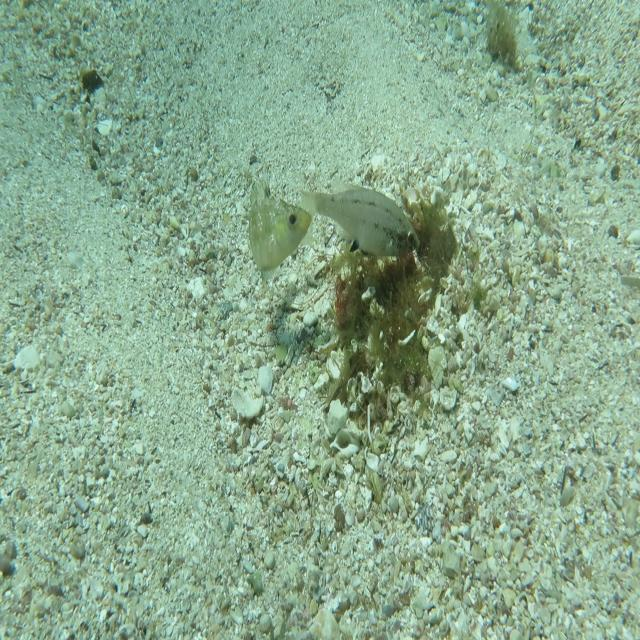GB: (247, 176, 313, 287)
core_nest: (388, 224, 433, 271)
female: (298, 164, 422, 260)
nest: (318, 163, 468, 436)
